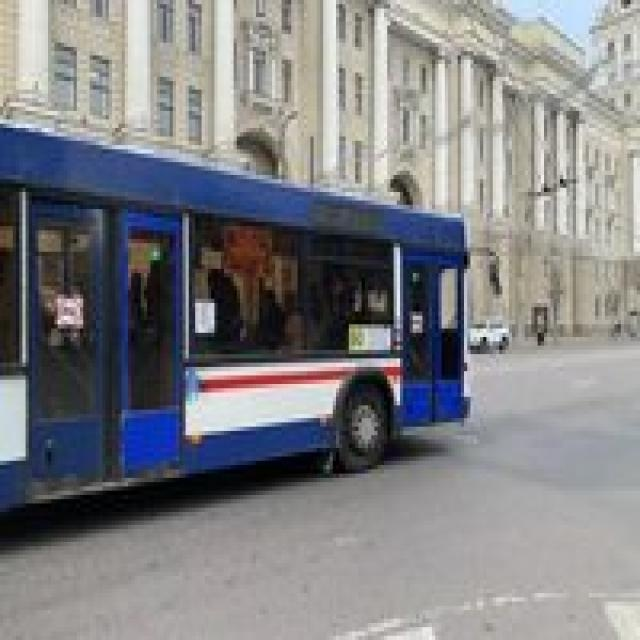Bus: (0, 92, 474, 501)
